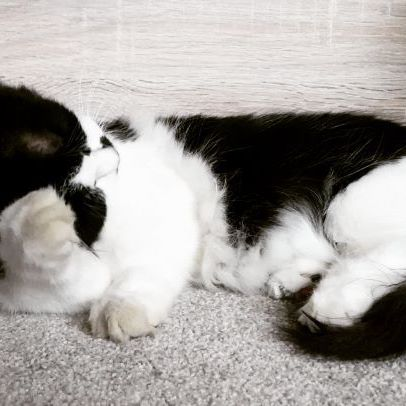cat: (1, 84, 125, 242)
